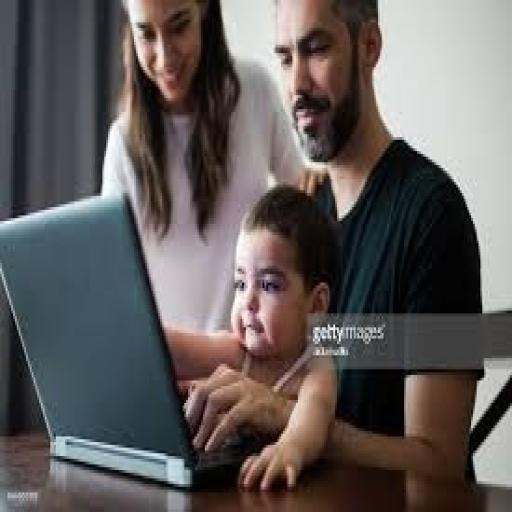using_laptop: (0, 190, 268, 490)
